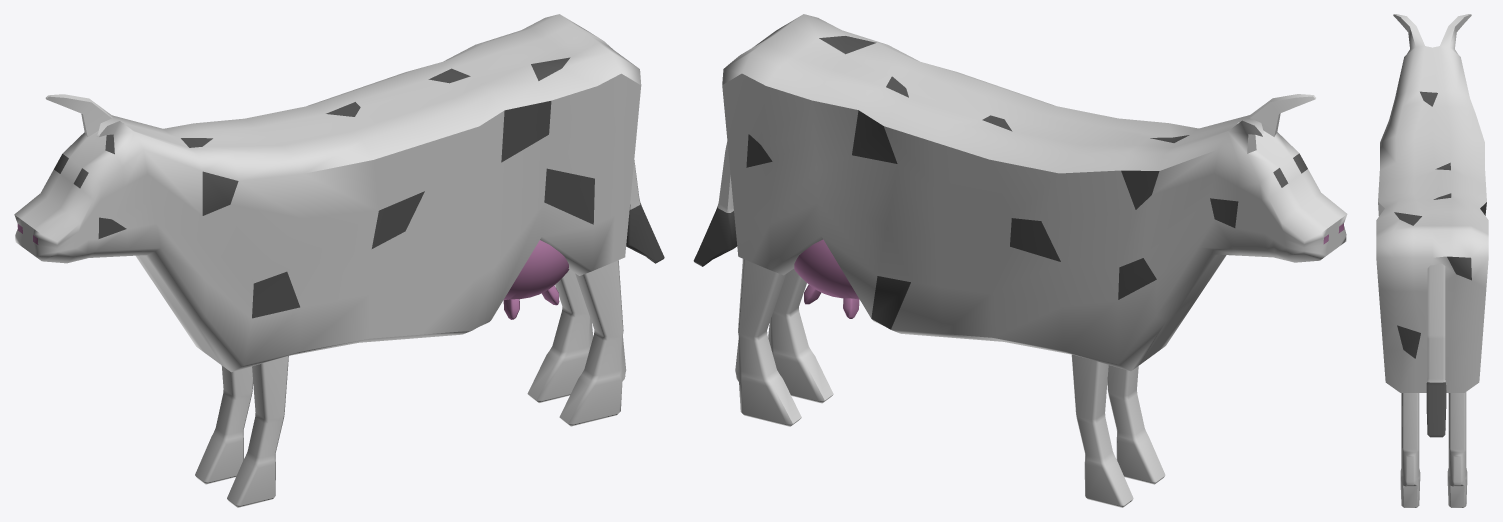
Rendered from CowGeo.fbx.
The picture shows the model from 3 angles, left to right: view 1: azimuth 30°, elevation 25°; view 2: azimuth 150°, elevation 25°; view 3: azimuth 270°, elevation 25°; orthographic projection. The views are drawn at different scales.
Visible parts, largest first — view 1: CowGeo; view 2: CowGeo; view 3: CowGeo.
Boxes of the visible parts, <box> form: CowGeo: <box>14,14,664,507</box>; CowGeo: <box>693,14,1347,507</box>; CowGeo: <box>1376,14,1488,507</box>.
Bounding box in the file's own units: 557 × 349 × 116.
